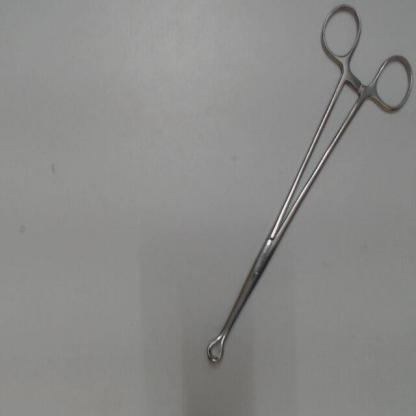8 Babcock Tissue Forceps: (201, 2, 414, 370)
